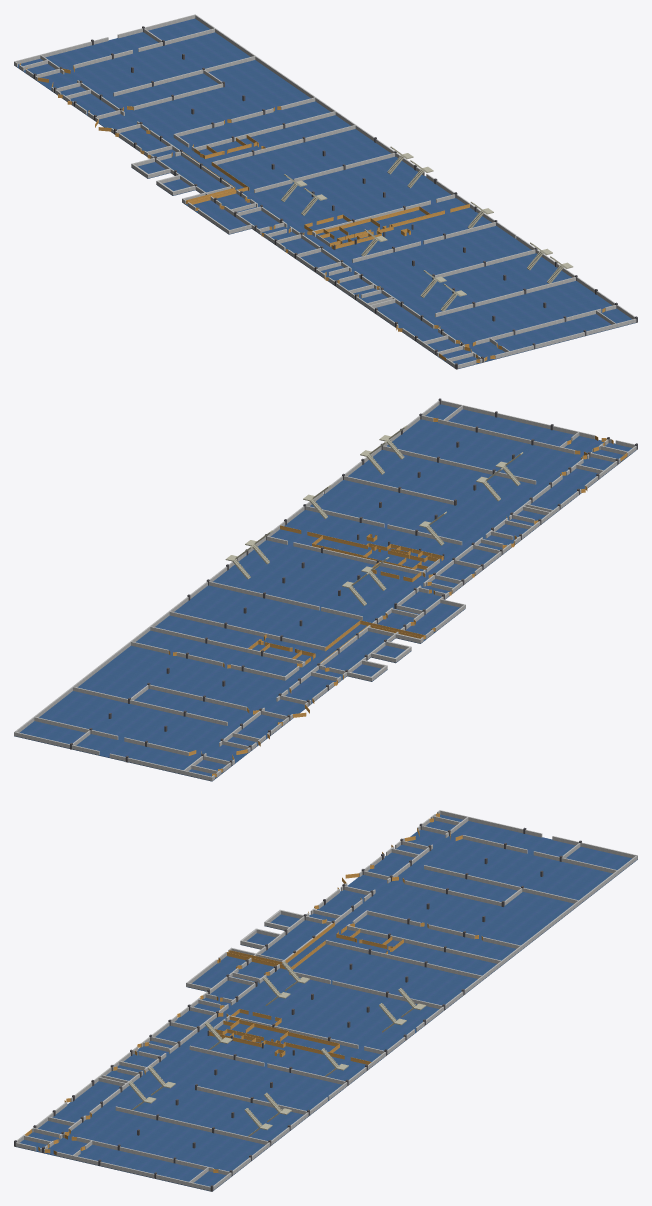
File: tileset.gltf
The picture shows the model from 3 angles, top to bottom: view 1: azimuth 30°, elevation 25°; view 2: azimuth 150°, elevation 25°; view 3: azimuth 330°, elevation 25°; orthographic projection. The views are drawn at different scales.
Parts seen in each view (by area): view 1: 100车间06厂-1F-1F; view 2: 100车间06厂-1F-1F; view 3: 100车间06厂-1F-1F.
Part boxes in pixels (box(x1,y1,x2,y2)): 100车间06厂-1F-1F: box(14, 14, 637, 369); 100车间06厂-1F-1F: box(14, 398, 637, 781); 100车间06厂-1F-1F: box(14, 810, 637, 1191).
Bounding box in the file's own units: 52.92 × 6.52 × 176.
Materials: 5 (5 with a texture image).
